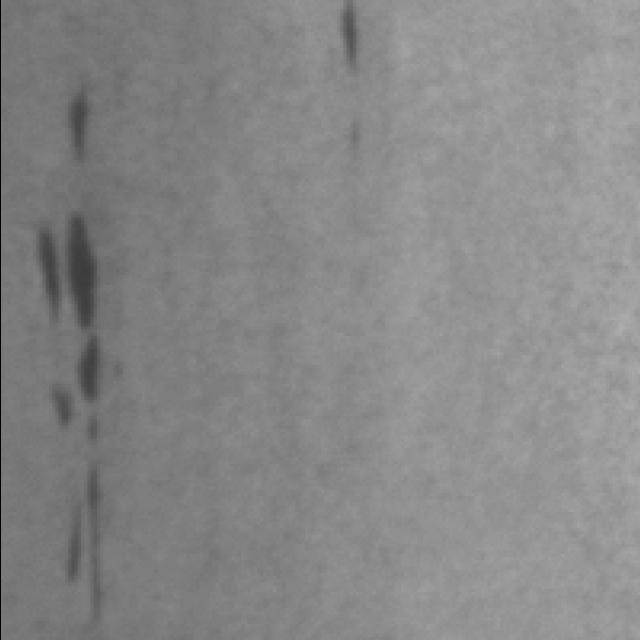inclusion: (42, 452, 142, 630), (28, 212, 118, 324), (43, 338, 123, 432), (321, 0, 389, 87), (65, 68, 115, 174), (323, 108, 381, 165)
